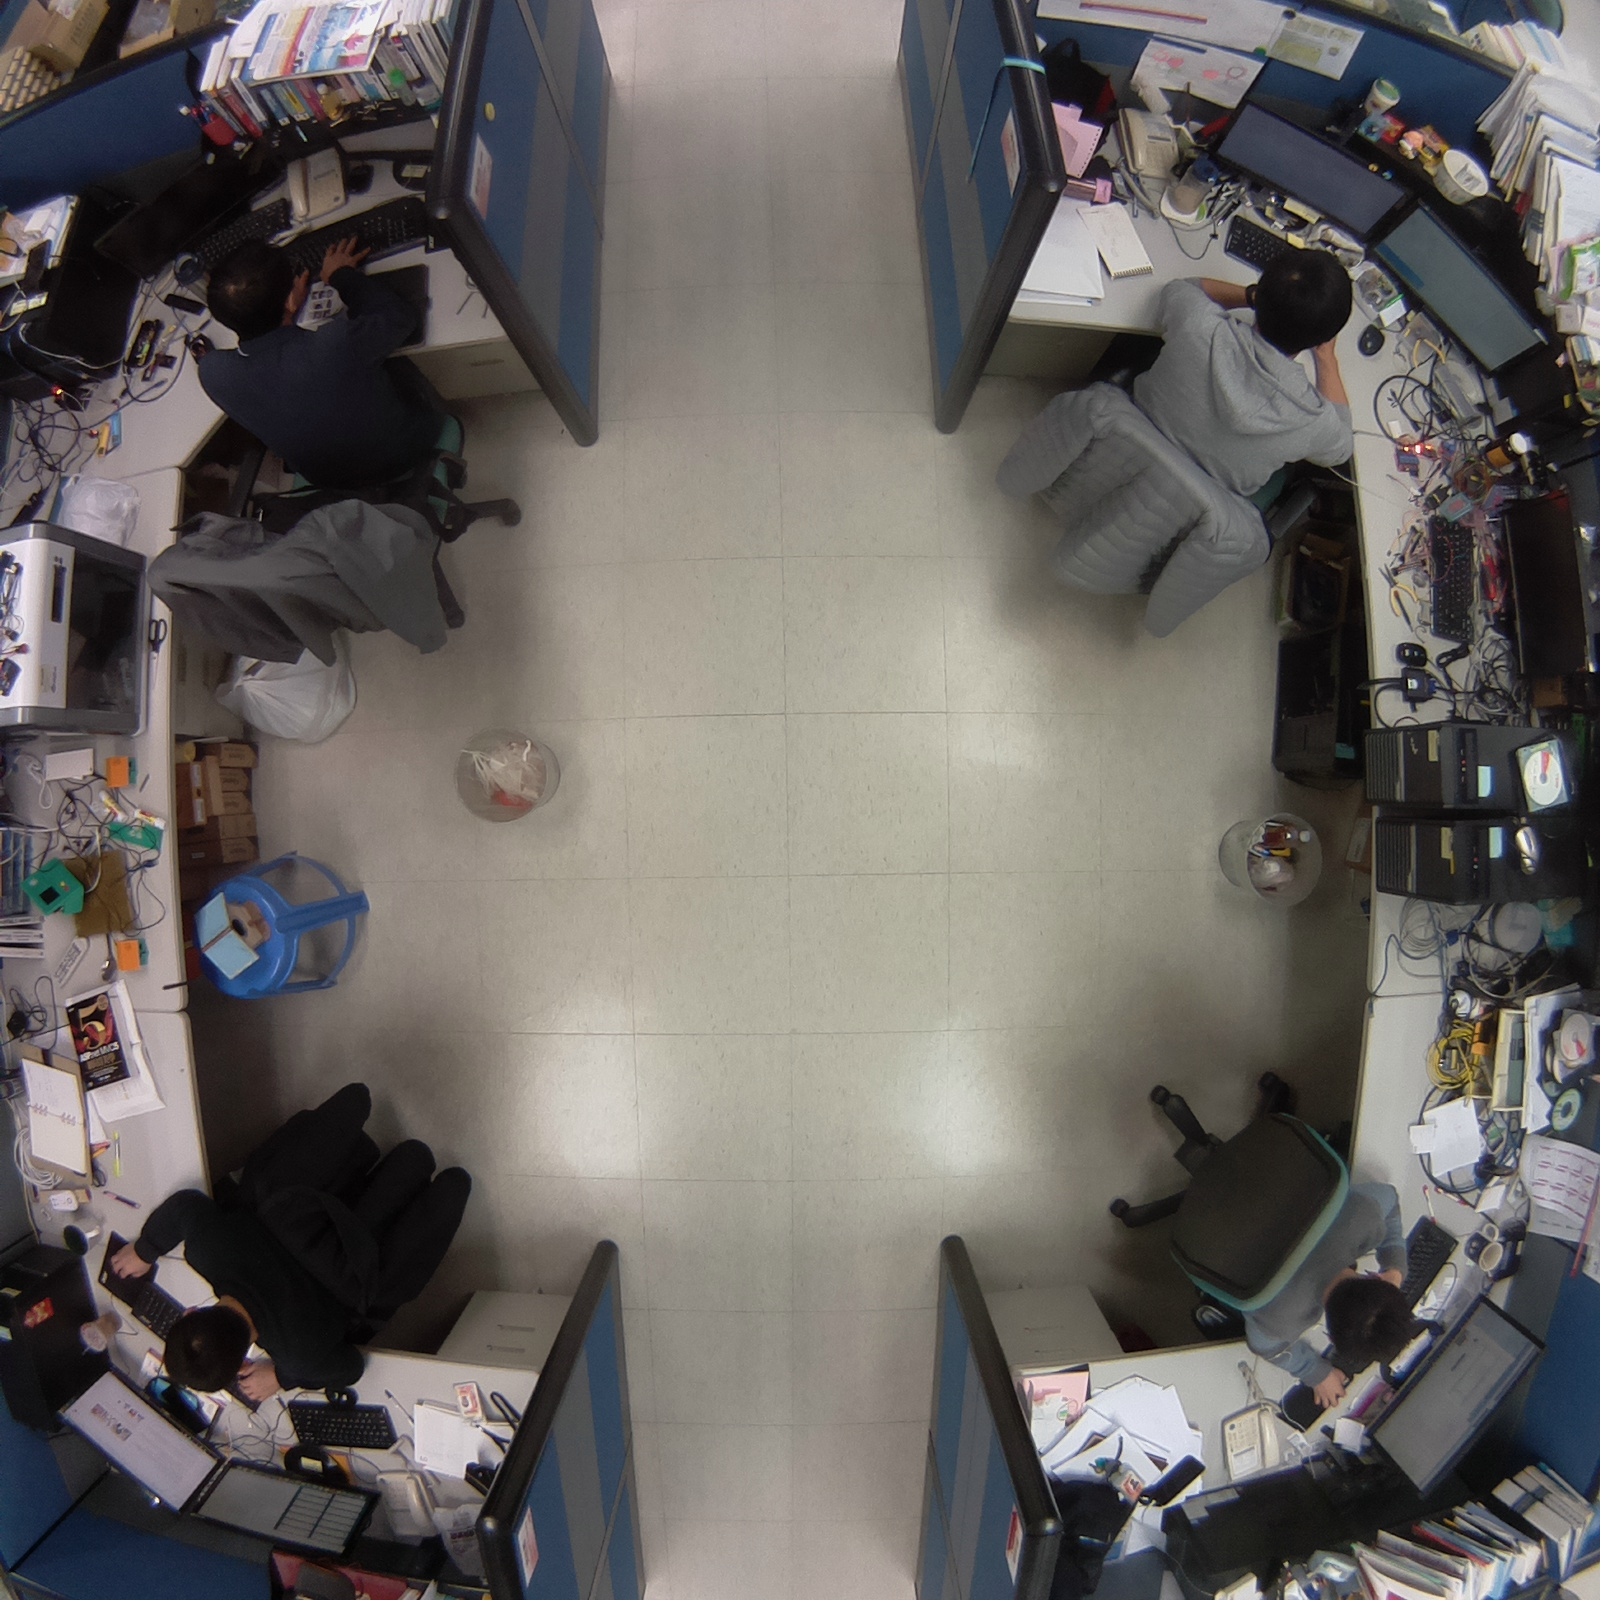sitting: (138, 223, 533, 675), (982, 237, 1368, 648), (94, 1071, 486, 1420), (1092, 1048, 1432, 1433)
